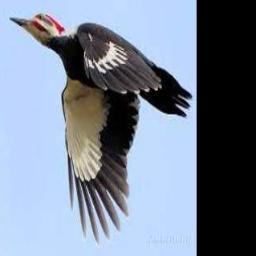Woodpecker: (9, 12, 193, 244)
